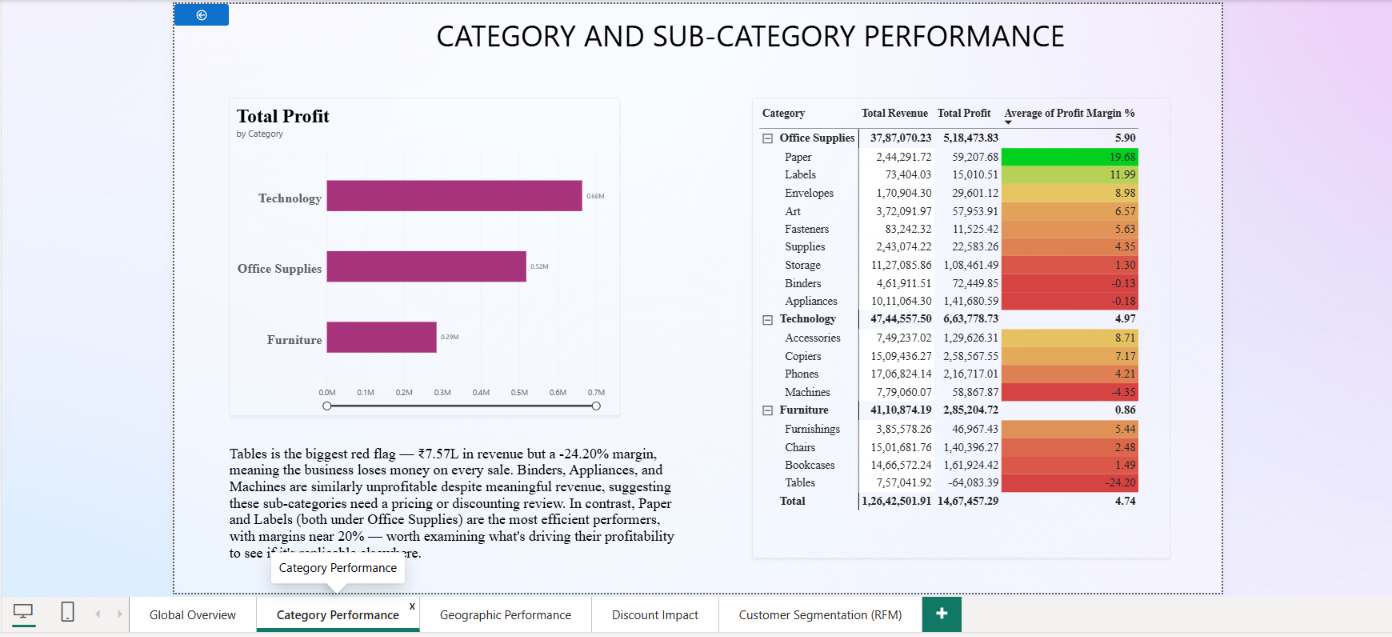

What the dashboard file says about the page in this screenshot:
{"tool":"powerbi","page":{"name":"Category Performance","canvas":[1920,1080],"ordinal":1},"visuals":[{"type":"clusteredBarChart","fields":{"Category":["cleaned_global_superstore.Category"],"Y":["cleaned_global_superstore.Total Profit"]},"box":[100.9,172.4,717.2,583.3],"z":0},{"type":"pivotTable","fields":{"Rows":["cleaned_global_superstore.Category","cleaned_global_superstore.Sub-Category"],"Values":["cleaned_global_superstore.Total Revenue","cleaned_global_superstore.Total Profit","Avg(cleaned_global_superstore.Profit Margin %)"]},"box":[1060.2,172.4,766.7,843.8],"z":1000},{"type":"actionButton","box":[0,0,100,40],"z":2000},{"type":"textbox","box":[100.9,808.9,838.3,223.8],"z":3000},{"type":"textbox","box":[480.6,20.2,1155.6,97.2],"z":4000}]}

Visuals, with their boxes on the page's 1920x1080 design canvas (x1, y1, x2, y2). These are canvas units, not pixel positions in the 1392x637 screenshot, which may show the page scaled, cropped or inside an application window:
clusteredBarChart - cleaned_global_superstore.Category x cleaned_global_superstore.Total Profit: {"x1": 101, "y1": 172, "x2": 818, "y2": 756}
pivotTable - cleaned_global_superstore.Category x cleaned_global_superstore.Sub-Category: {"x1": 1060, "y1": 172, "x2": 1827, "y2": 1016}
actionButton: {"x1": 0, "y1": 0, "x2": 100, "y2": 40}
textbox: {"x1": 101, "y1": 809, "x2": 939, "y2": 1033}
textbox: {"x1": 481, "y1": 20, "x2": 1636, "y2": 117}
